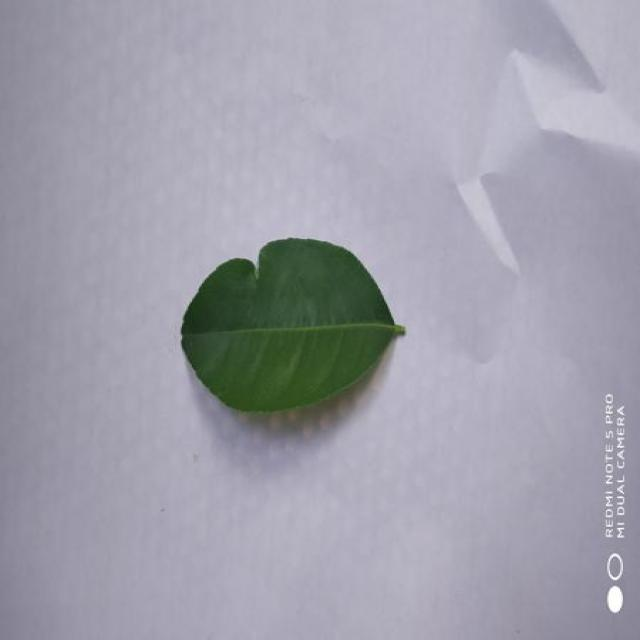citron lime: (183, 239, 405, 411)
